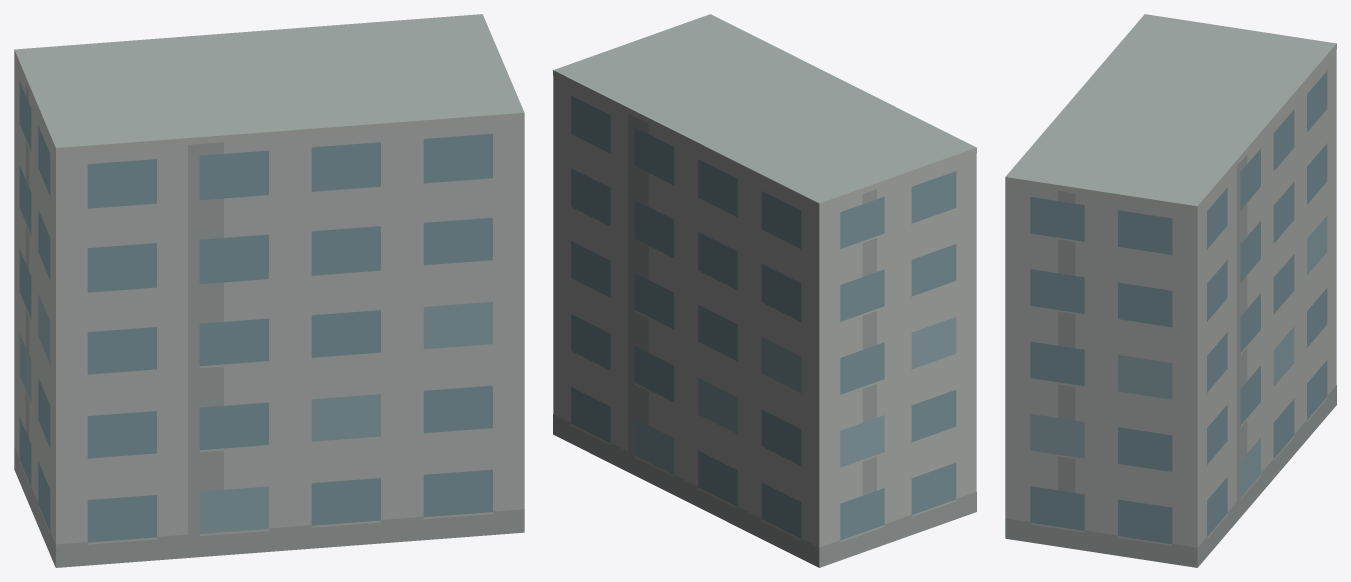
File: residential-04b8fbae-66e4-4295-be02-07d00bee8868.glb
The picture shows the model from 3 angles, left to right: view 1: azimuth 30°, elevation 25°; view 2: azimuth 150°, elevation 25°; view 3: azimuth 270°, elevation 25°; orthographic projection. The views are drawn at different scales.
Visible parts, largest first — view 1: residential-04b8fbae-66e4-4295-be02-07d00bee8868.tmp; view 2: residential-04b8fbae-66e4-4295-be02-07d00bee8868.tmp; view 3: residential-04b8fbae-66e4-4295-be02-07d00bee8868.tmp.
Boxes of the visible parts, left/top/right/bottom form: residential-04b8fbae-66e4-4295-be02-07d00bee8868.tmp: left=14, top=14, right=524, bottom=567; residential-04b8fbae-66e4-4295-be02-07d00bee8868.tmp: left=553, top=14, right=976, bottom=567; residential-04b8fbae-66e4-4295-be02-07d00bee8868.tmp: left=1005, top=14, right=1336, bottom=567.
Bounding box in the file's own units: 17.4 × 15.25 × 12.68.
